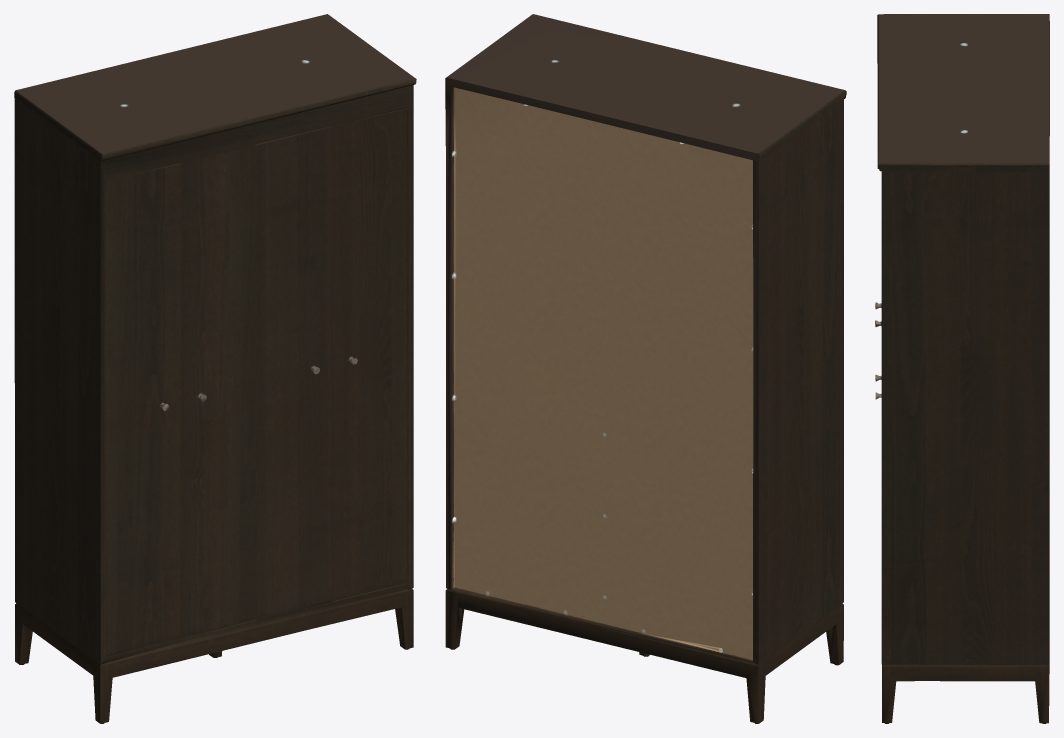
Rendered from idanaes_wardrobe_dark_brown_stained.glb.
The picture shows the model from 3 angles, left to right: view 1: azimuth 30°, elevation 25°; view 2: azimuth 150°, elevation 25°; view 3: azimuth 270°, elevation 25°; orthographic projection. The views are drawn at different scales.
Parts seen in each view (by area): view 1: ProcessedMeshNode; view 2: ProcessedMeshNode; view 3: ProcessedMeshNode.
Part boxes in pixels (x1=…): ProcessedMeshNode: x1=14, y1=14, x2=416, y2=723; ProcessedMeshNode: x1=445, y1=14, x2=846, y2=723; ProcessedMeshNode: x1=875, y1=14, x2=1049, y2=723.
Size of the model in its own units: 1.21 by 2.11 by 0.5948.
1 material, 1 textured.
